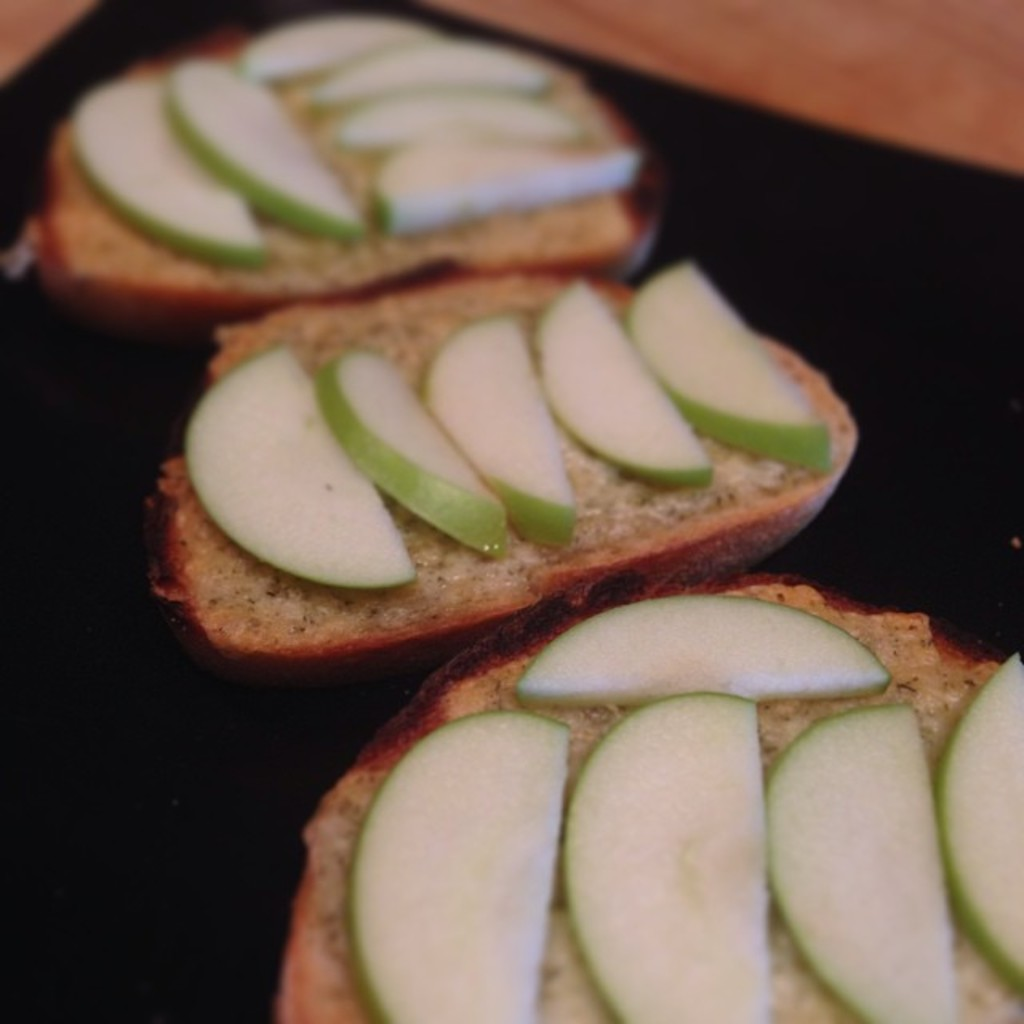Apple: (65, 12, 649, 270), (340, 711, 574, 1022), (561, 689, 772, 1022), (764, 705, 961, 1022), (180, 342, 412, 590), (620, 265, 839, 476), (516, 596, 889, 711), (312, 340, 508, 555), (534, 270, 713, 486), (417, 316, 574, 544), (935, 652, 1022, 988)
